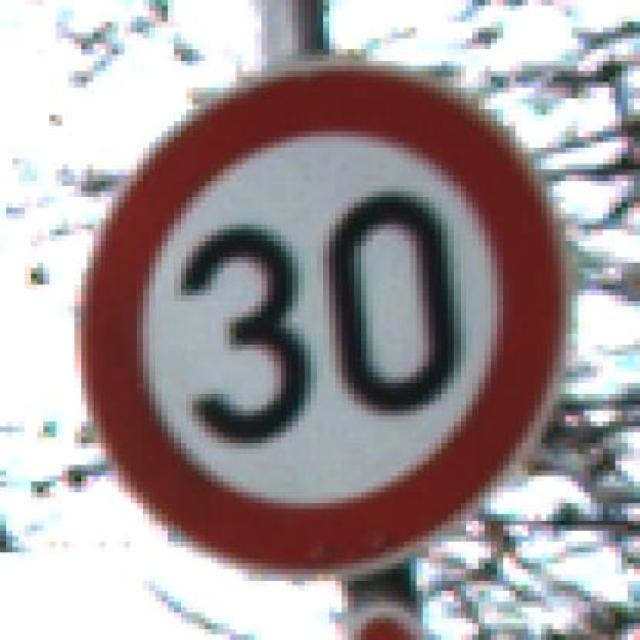Speed Limit 30 KMPh: (37, 55, 628, 602)
